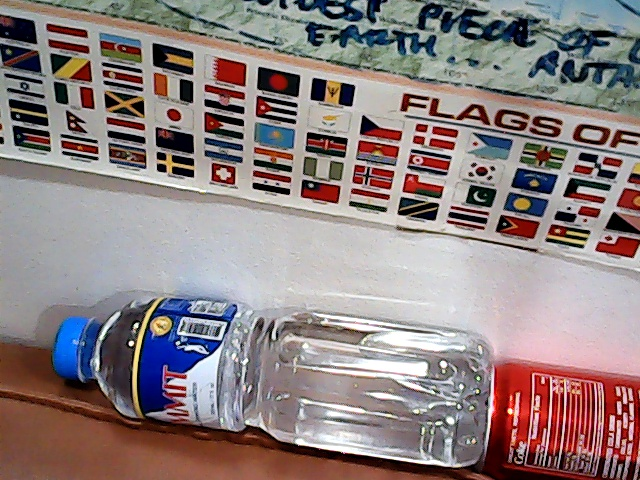Cola: (489, 345, 640, 480)
Summit Water: (45, 283, 487, 470)
